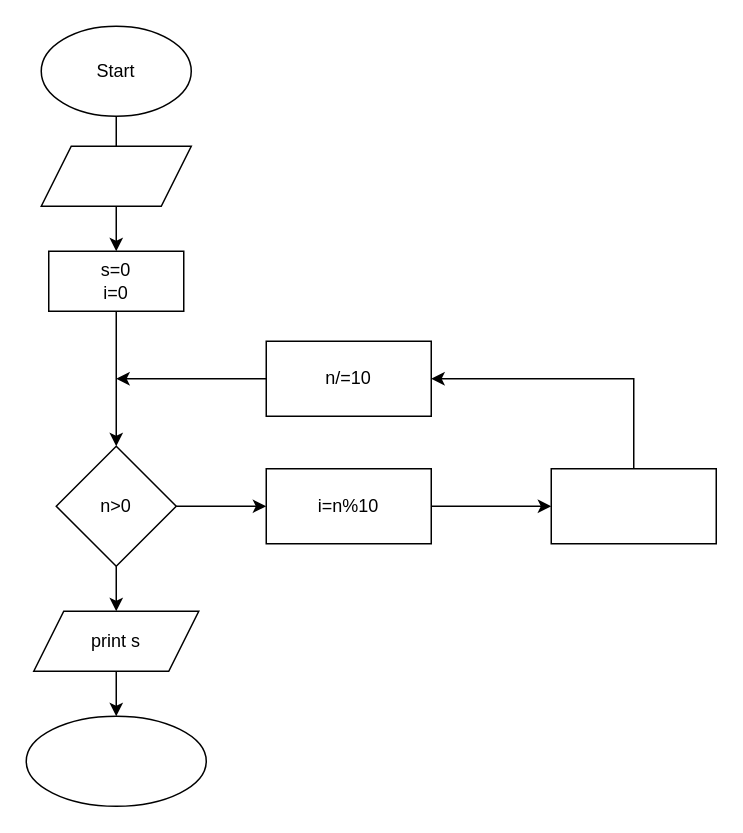
Some shapes in this 743 by 833 pixel diagram are drawn without their labels. Here are the shapes that lost their labels. From the top down, the box of each, then its label:
(40, 145, 191, 206): input
(550, 467, 716, 544): s+=i
(25, 715, 206, 806): HALT
